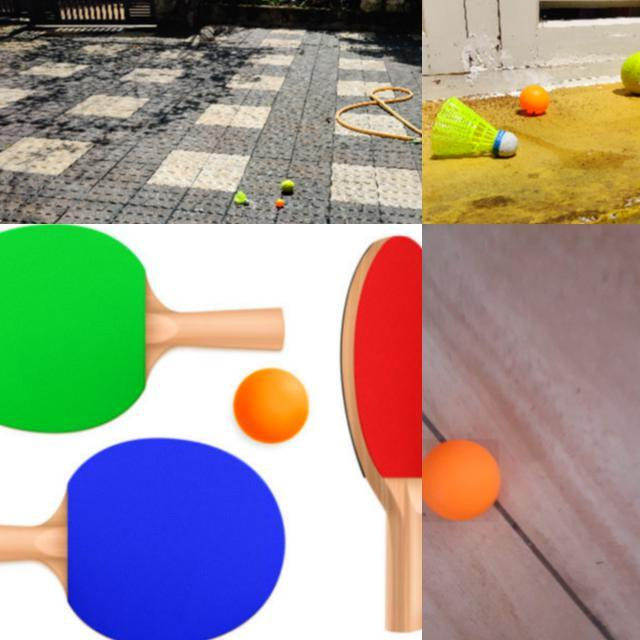ping-pong-ball: (422, 439, 501, 524), (234, 368, 308, 442), (518, 84, 548, 112), (275, 198, 283, 206)
